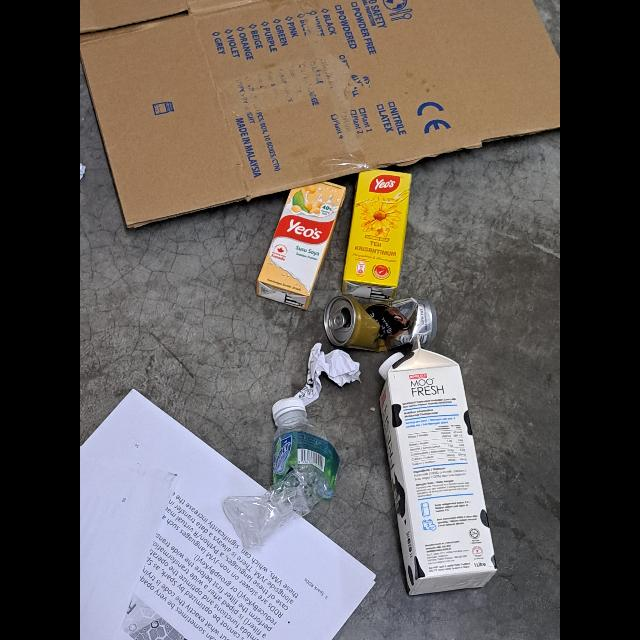aba de lata: (327, 314, 343, 330)
caixinha: (381, 336, 497, 596), (256, 180, 346, 310), (343, 168, 411, 304)
garrafa plástica: (222, 410, 342, 550)
lata: (322, 294, 438, 352)
papel: (80, 390, 378, 640), (296, 342, 362, 408)
papelão: (80, 0, 560, 232)
tampa plástica: (272, 398, 308, 422), (378, 352, 404, 380)
